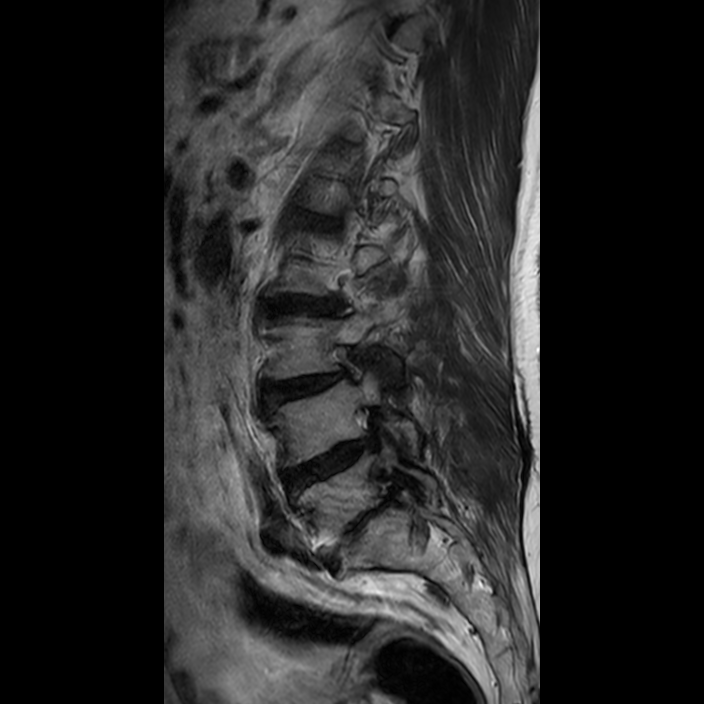LFS3: (316, 331, 376, 393)
